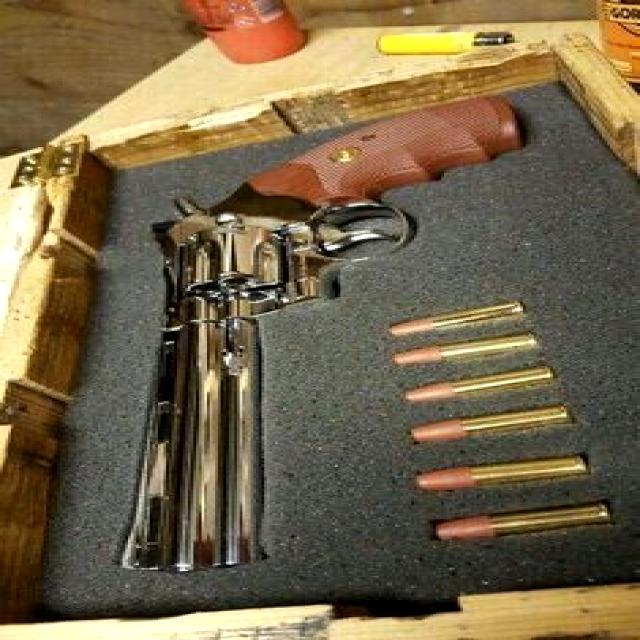revolver: (42, 8, 640, 640)
